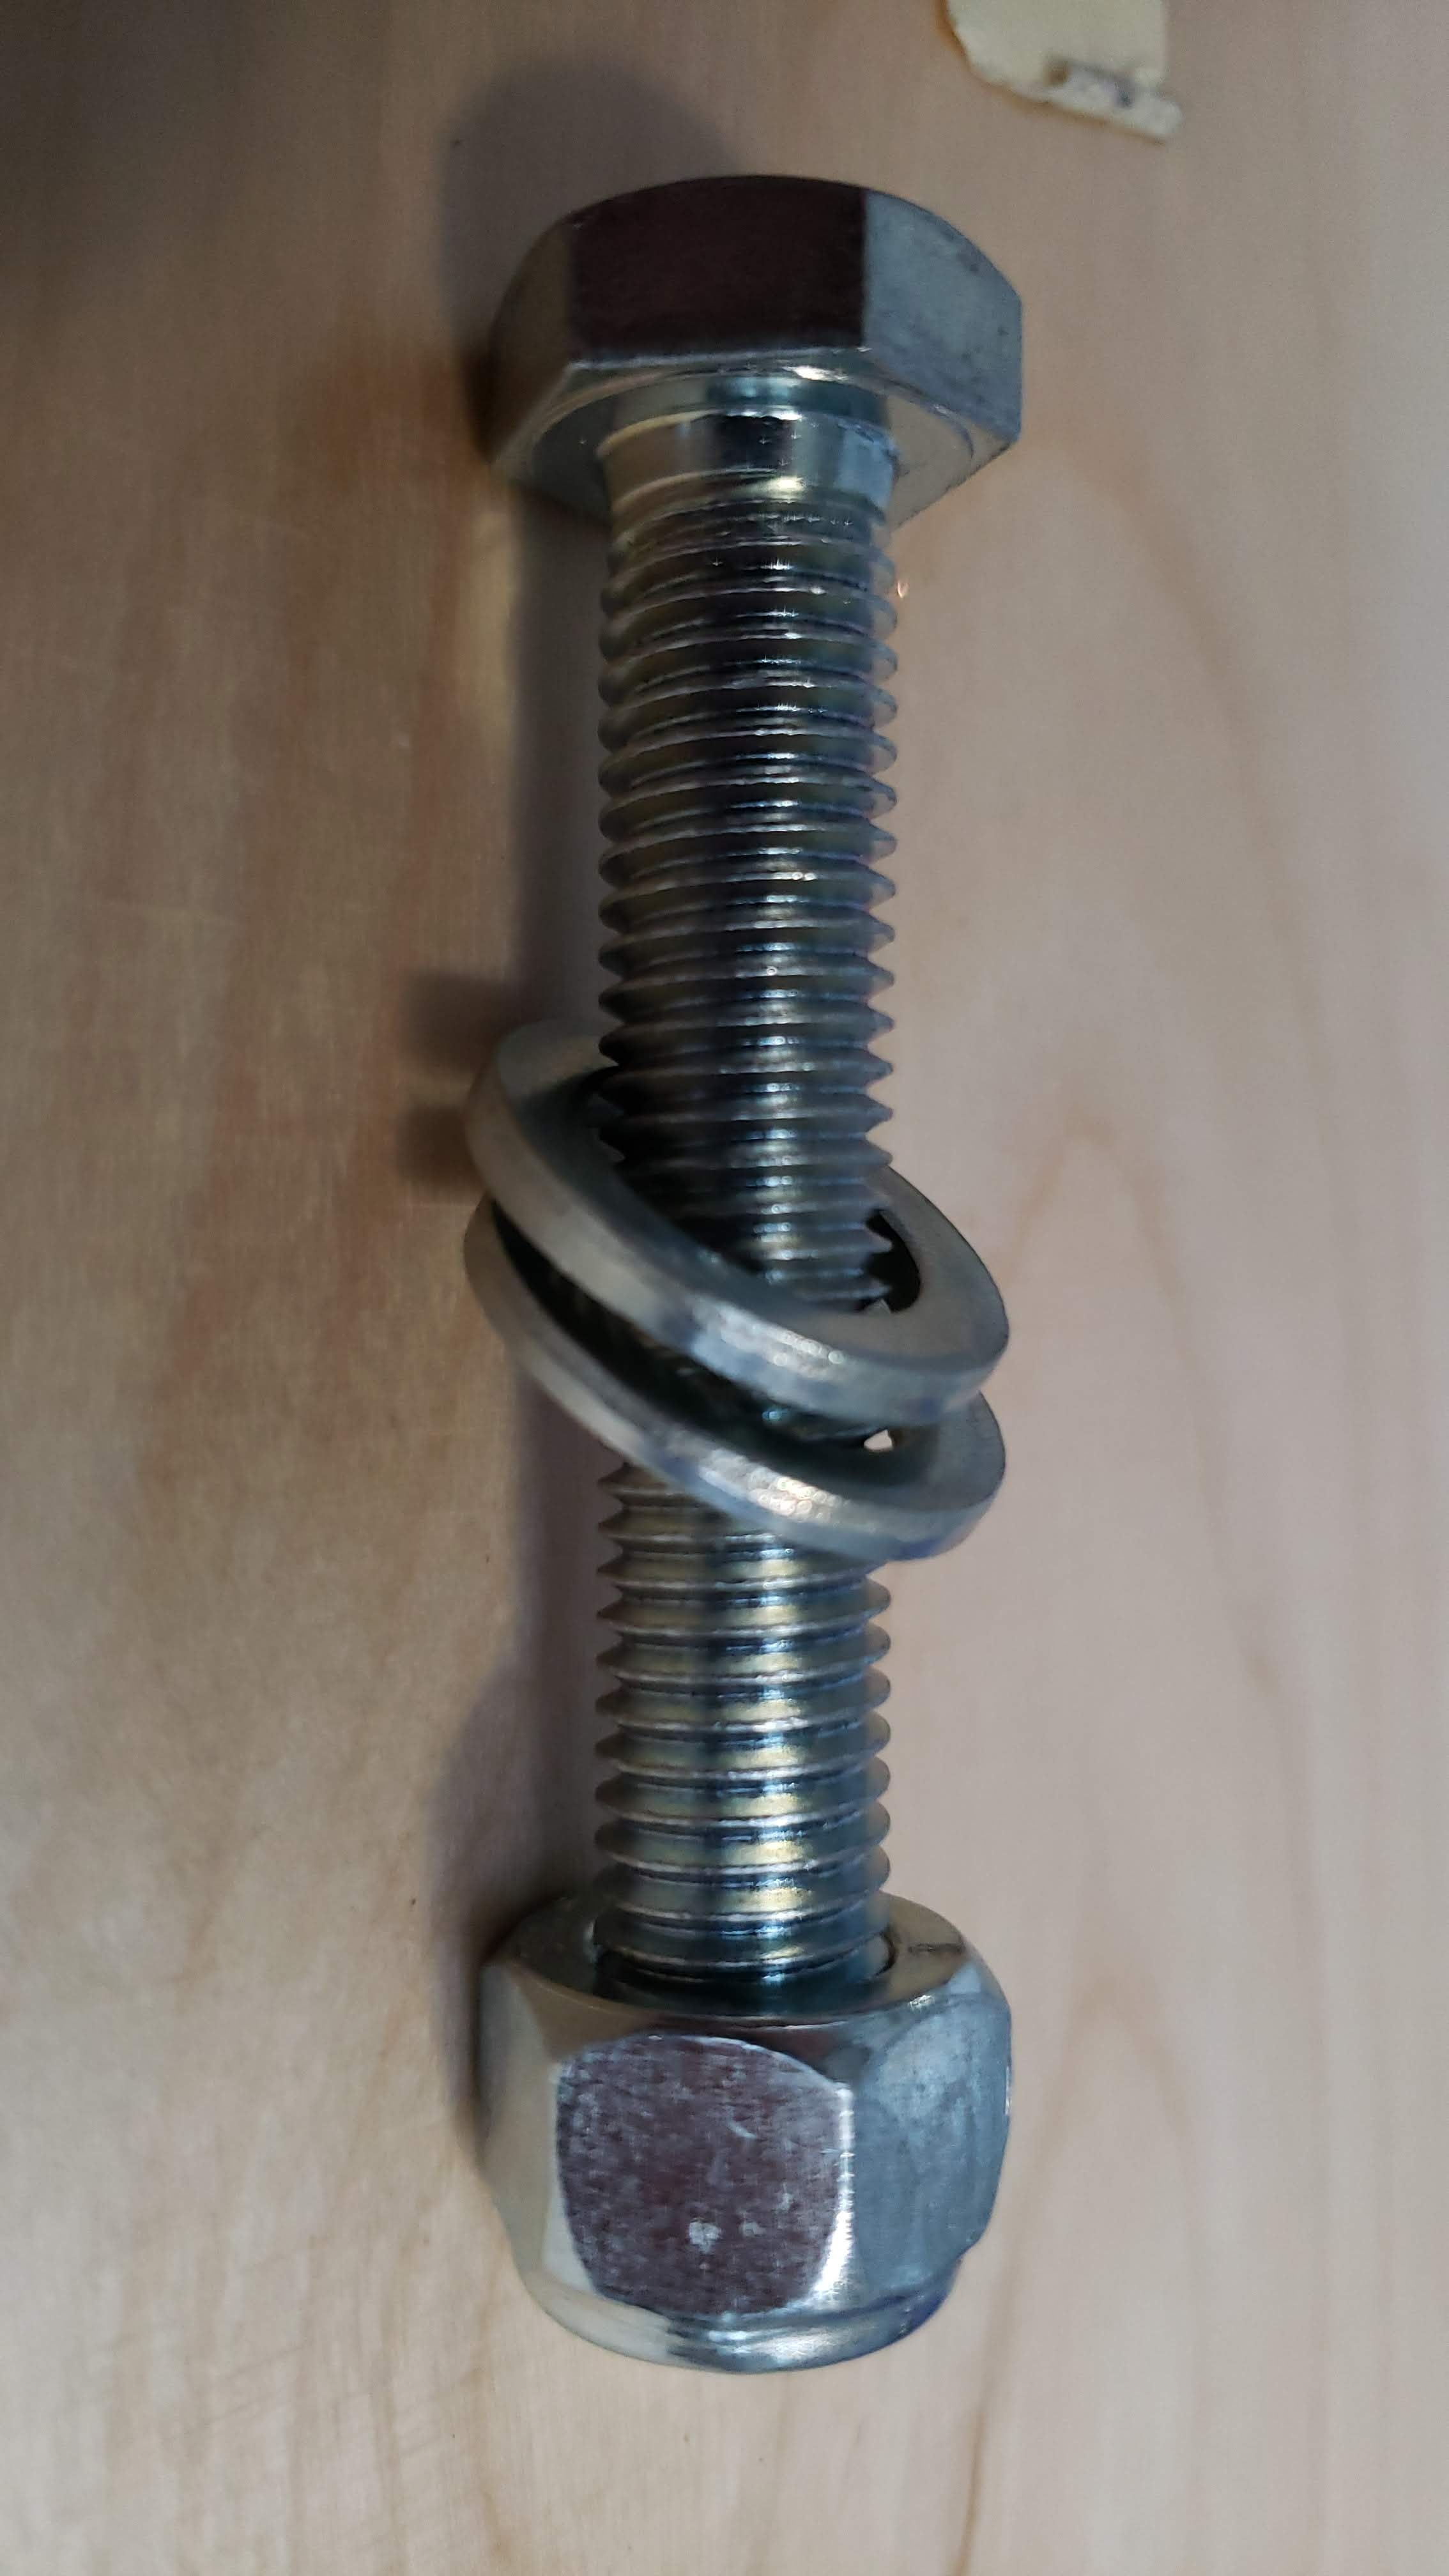FinishedAssembly: (347, 101, 1253, 2436)
